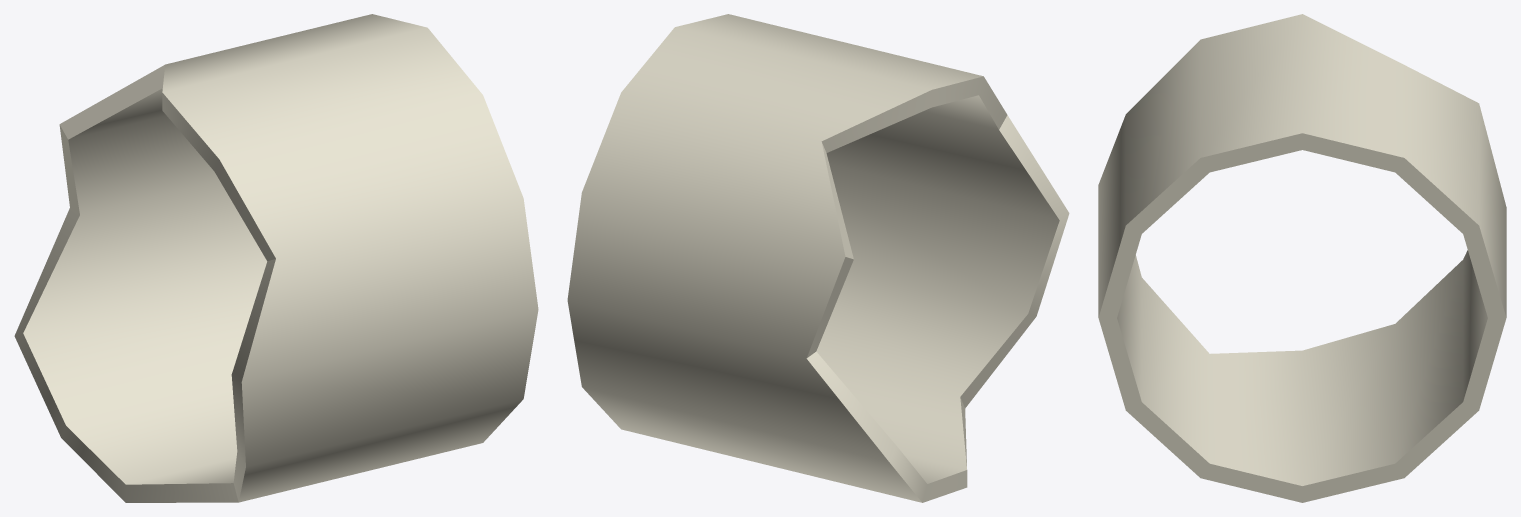
File: broken_pipe_3.fbx
The picture shows the model from 3 angles, left to right: view 1: azimuth 30°, elevation 25°; view 2: azimuth 150°, elevation 25°; view 3: azimuth 270°, elevation 25°; orthographic projection. The views are drawn at different scales.
Visible parts, largest first — view 1: Broken_Pipe_3; view 2: Broken_Pipe_3; view 3: Broken_Pipe_3.
Part boxes in pixels (x1,y1,x2,y2): Broken_Pipe_3: (14,14,538,502); Broken_Pipe_3: (567,14,1069,502); Broken_Pipe_3: (1098,14,1506,502).
Bounding box in the file's own units: 3.64 × 4.4 × 4.4.
